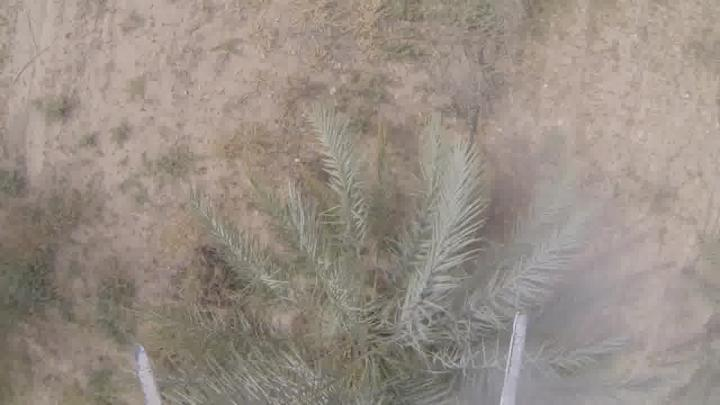Date-Palm-Crown: (228, 224, 511, 404)
